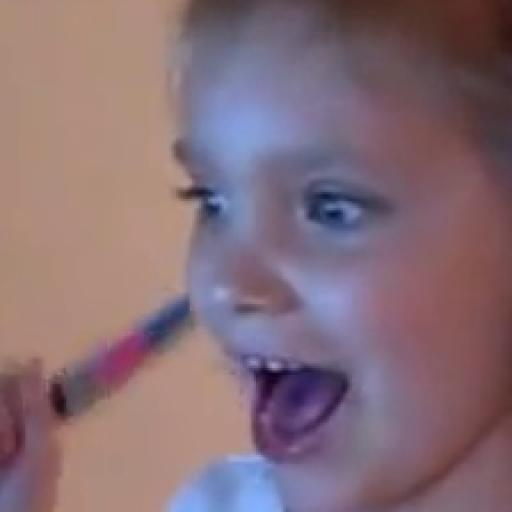Autism: (147, 0, 512, 512)
